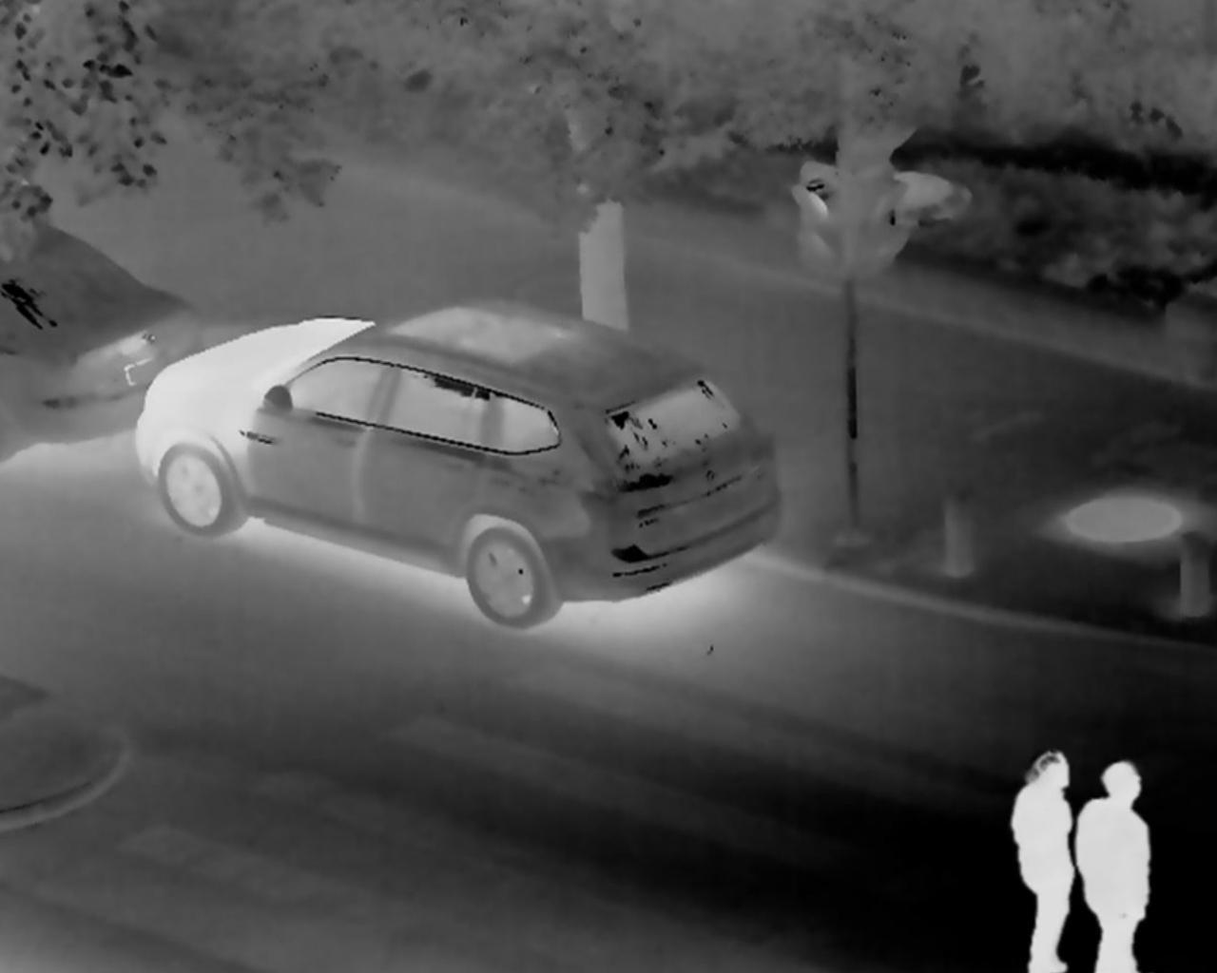person: (1073, 755, 1155, 973), (1007, 746, 1075, 973)
